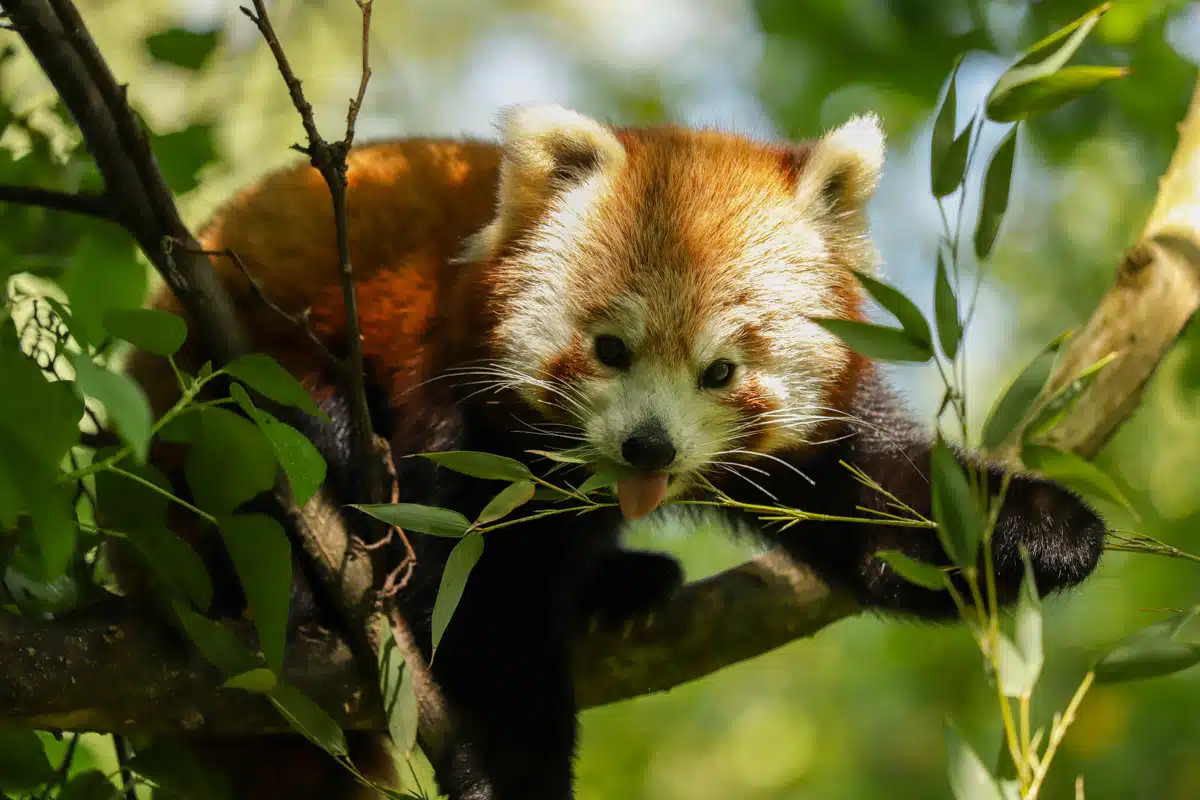Red panda: (481, 97, 897, 519)
